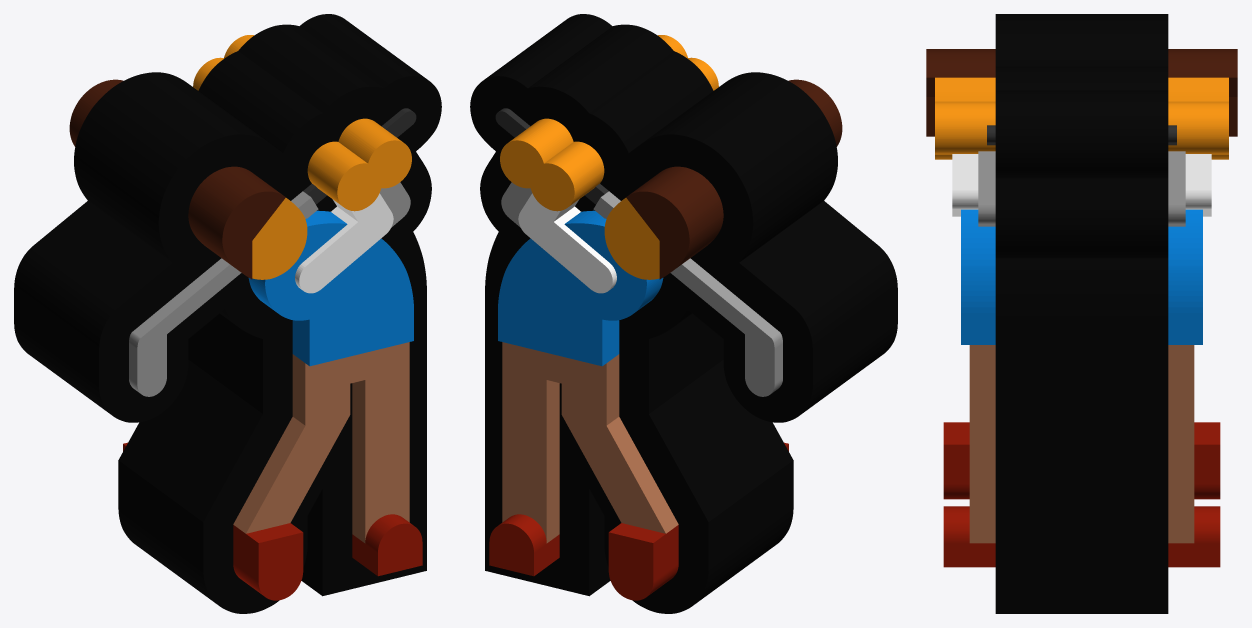
3 views of the same model, side by side, from view 1: azimuth 30°, elevation 25°; view 2: azimuth 150°, elevation 25°; view 3: azimuth 270°, elevation 25° (orthographic).
Visible parts, largest first — view 1: U+1F3CC_layer00_obj00, U+1F3CC_layer03_obj00, U+1F3CC_layer04_obj00, U+1F3CC_layer07_obj00, U+1F3CC_layer06_obj00, U+1F3CC_layer08_obj00, U+1F3CC_layer02_obj00, U+1F3CC_layer05_obj00, U+1F3CC_layer01_obj00; view 2: U+1F3CC_layer00_obj00, U+1F3CC_layer03_obj00, U+1F3CC_layer04_obj00, U+1F3CC_layer07_obj00, U+1F3CC_layer06_obj00, U+1F3CC_layer08_obj00, U+1F3CC_layer02_obj00, U+1F3CC_layer05_obj00, U+1F3CC_layer01_obj00; view 3: U+1F3CC_layer00_obj00, U+1F3CC_layer03_obj00, U+1F3CC_layer07_obj00, U+1F3CC_layer04_obj00, U+1F3CC_layer06_obj00, U+1F3CC_layer08_obj00, U+1F3CC_layer05_obj00, U+1F3CC_layer02_obj00.
Boxes of the visible parts, left/top/right/bottom form: U+1F3CC_layer00_obj00: left=14, top=14, right=441, bottom=613; U+1F3CC_layer03_obj00: left=233, top=342, right=409, bottom=543; U+1F3CC_layer04_obj00: left=248, top=210, right=413, bottom=366; U+1F3CC_layer07_obj00: left=193, top=35, right=411, bottom=279; U+1F3CC_layer06_obj00: left=123, top=442, right=422, bottom=600; U+1F3CC_layer08_obj00: left=69, top=79, right=285, bottom=279; U+1F3CC_layer02_obj00: left=129, top=182, right=410, bottom=396; U+1F3CC_layer05_obj00: left=295, top=193, right=393, bottom=293; U+1F3CC_layer01_obj00: left=303, top=108, right=416, bottom=204; U+1F3CC_layer00_obj00: left=470, top=14, right=897, bottom=613; U+1F3CC_layer03_obj00: left=502, top=342, right=678, bottom=543; U+1F3CC_layer04_obj00: left=498, top=210, right=663, bottom=366; U+1F3CC_layer07_obj00: left=500, top=35, right=718, bottom=279; U+1F3CC_layer06_obj00: left=489, top=442, right=788, bottom=600; U+1F3CC_layer08_obj00: left=626, top=79, right=842, bottom=279; U+1F3CC_layer02_obj00: left=501, top=182, right=782, bottom=396; U+1F3CC_layer05_obj00: left=518, top=193, right=616, bottom=293; U+1F3CC_layer01_obj00: left=495, top=108, right=608, bottom=204; U+1F3CC_layer00_obj00: left=995, top=14, right=1168, bottom=613; U+1F3CC_layer03_obj00: left=969, top=345, right=1194, bottom=543; U+1F3CC_layer07_obj00: left=935, top=77, right=1228, bottom=159; U+1F3CC_layer04_obj00: left=961, top=209, right=1202, bottom=344; U+1F3CC_layer06_obj00: left=943, top=422, right=1220, bottom=567; U+1F3CC_layer08_obj00: left=926, top=49, right=1237, bottom=136; U+1F3CC_layer05_obj00: left=952, top=154, right=1211, bottom=216; U+1F3CC_layer02_obj00: left=978, top=151, right=1185, bottom=226.
Size of the model in its own units: 0.4665 by 0.649 by 0.36.
